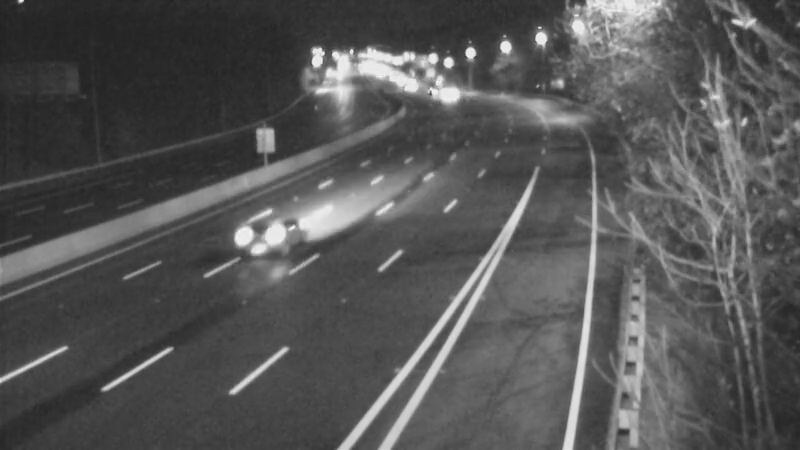vehicle: (233, 196, 313, 276), (413, 61, 463, 111), (387, 60, 437, 110), (427, 69, 477, 119)
